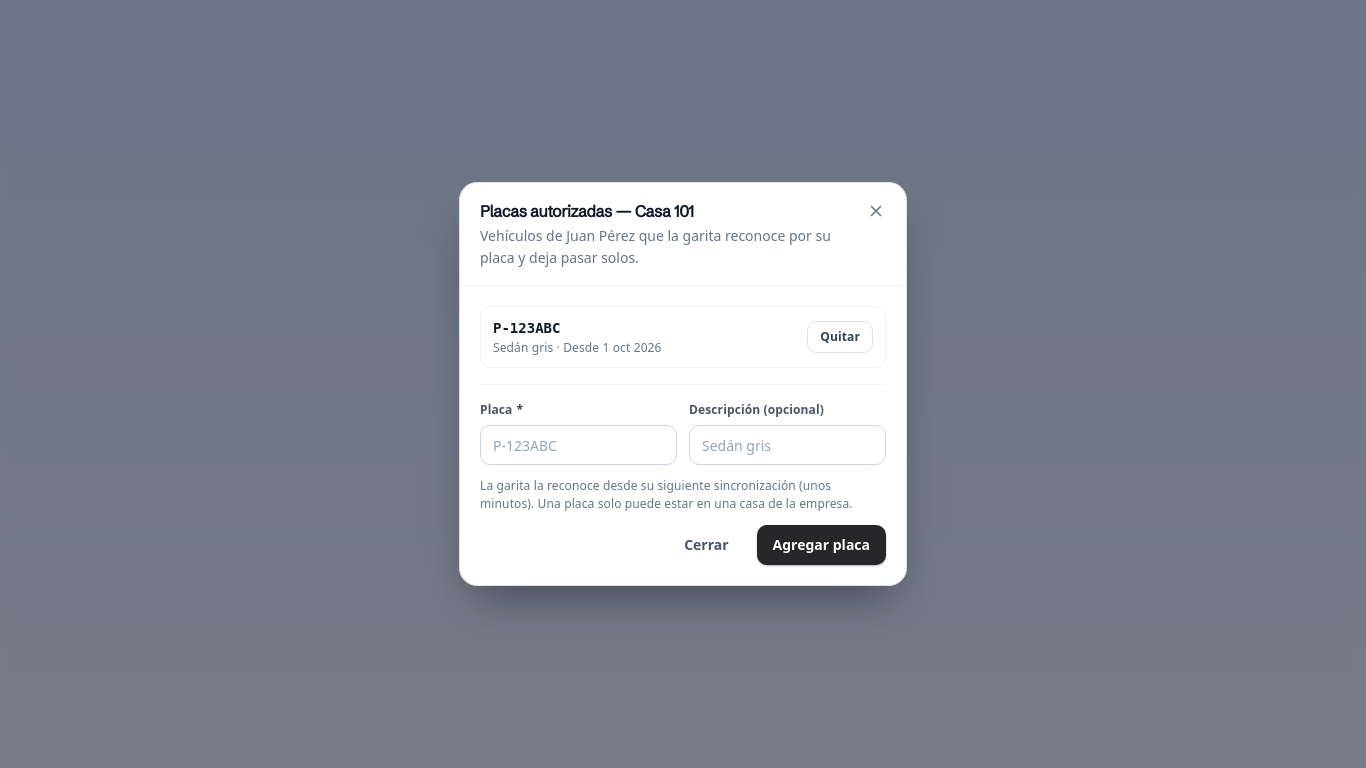
Test: PlacasResidente › baja: pide confirmación en la misma fila; cancelar no quita nada; confirmar la quita
The width and height of the screenshot is (1366, 768).
Click the button with aria-label "Quitar la placa P-123ABC" at (840, 337), box [807, 321, 873, 353]
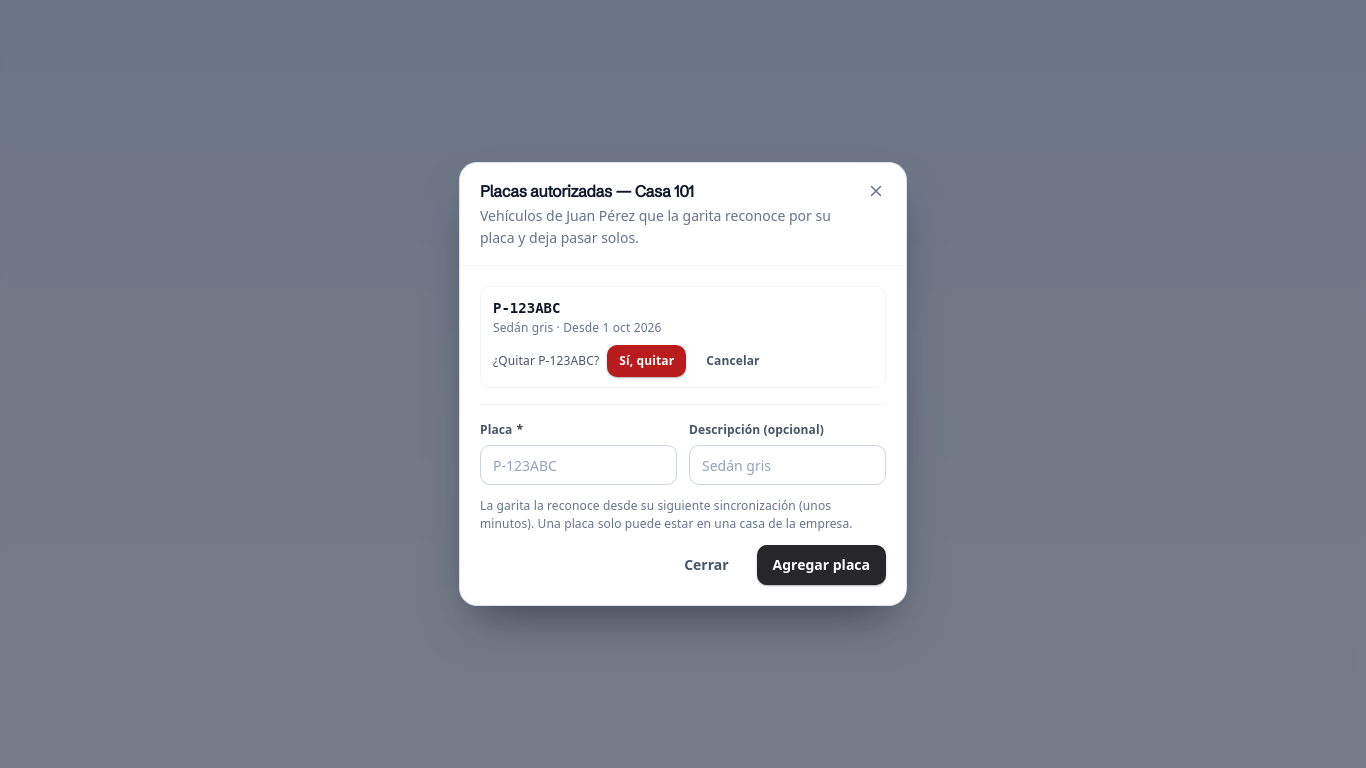
Click the button "Cancelar" at (733, 361), box [694, 345, 772, 377]
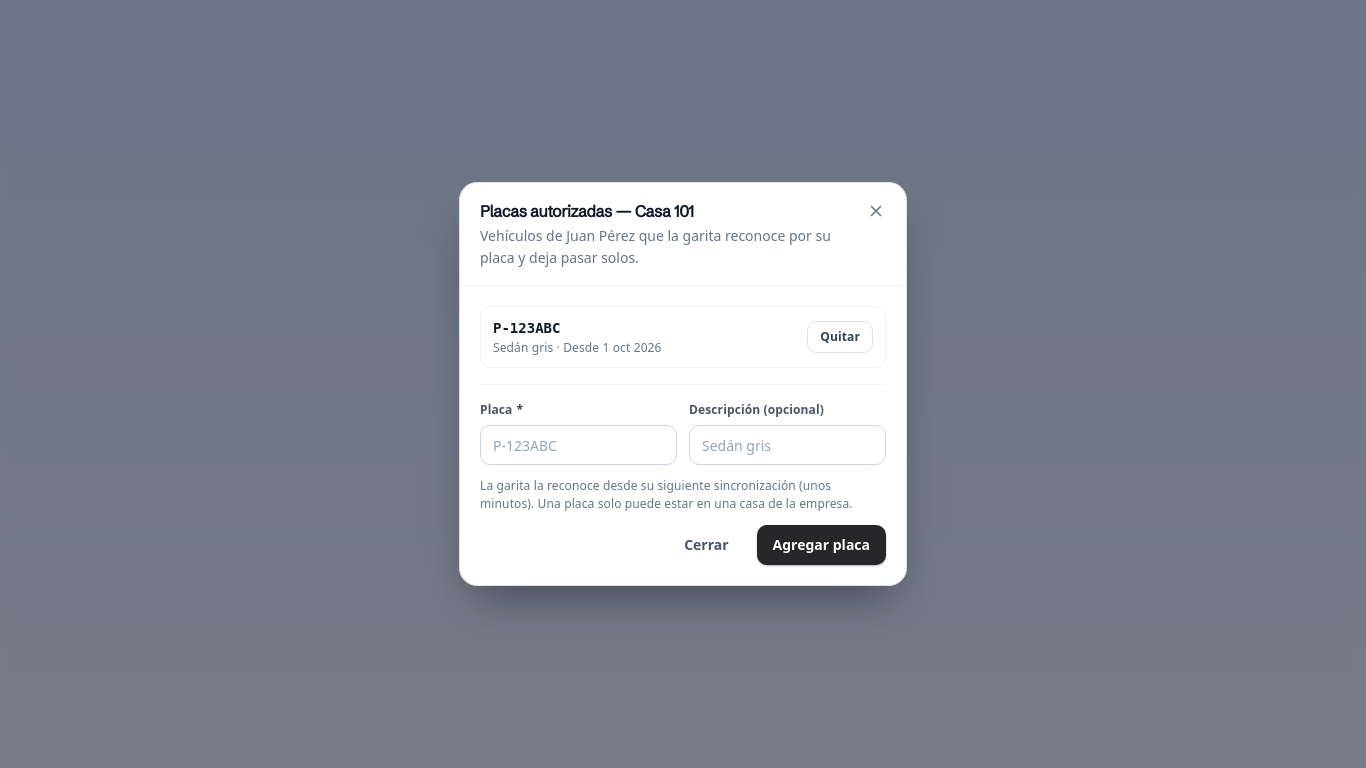
Click the button with aria-label "Quitar la placa P-123ABC" at (840, 337), box [807, 321, 873, 353]
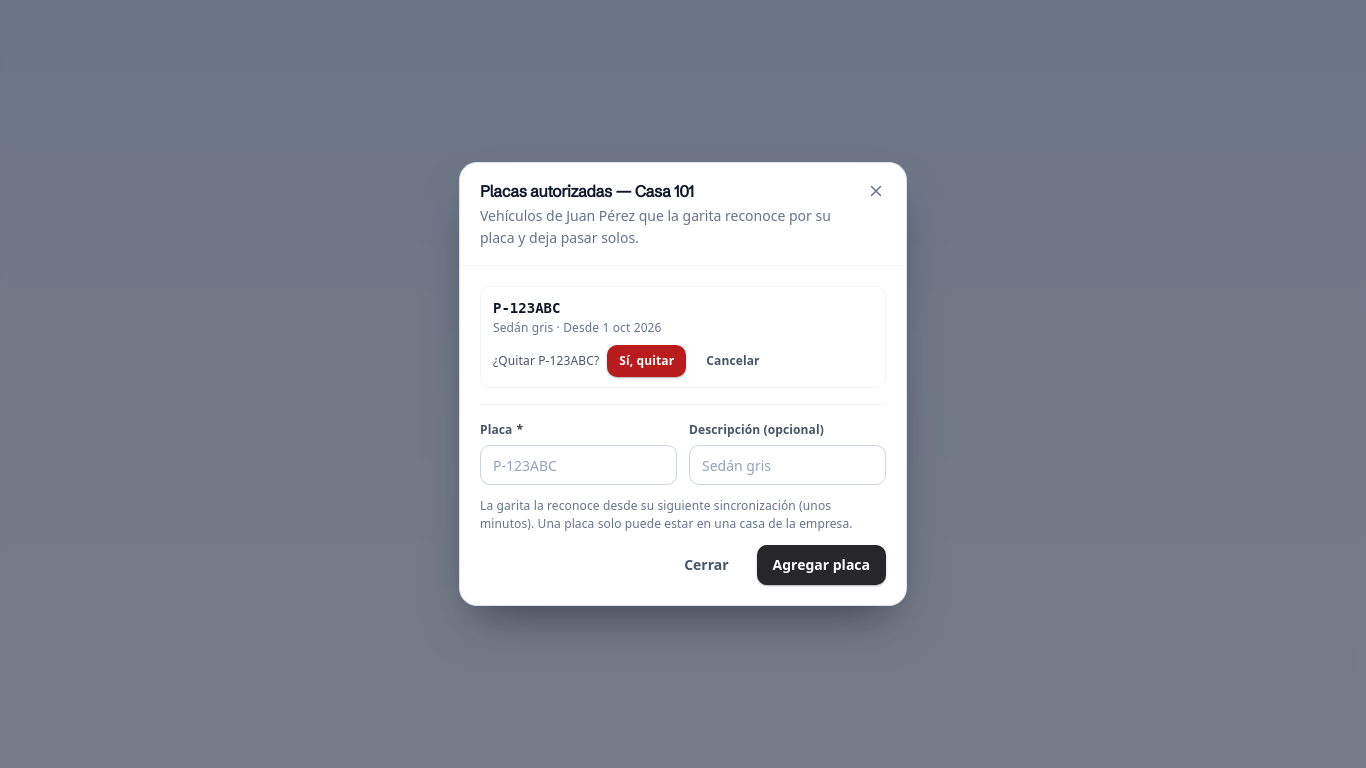
Click the button "Sí, quitar" at (647, 361), box [607, 345, 686, 377]
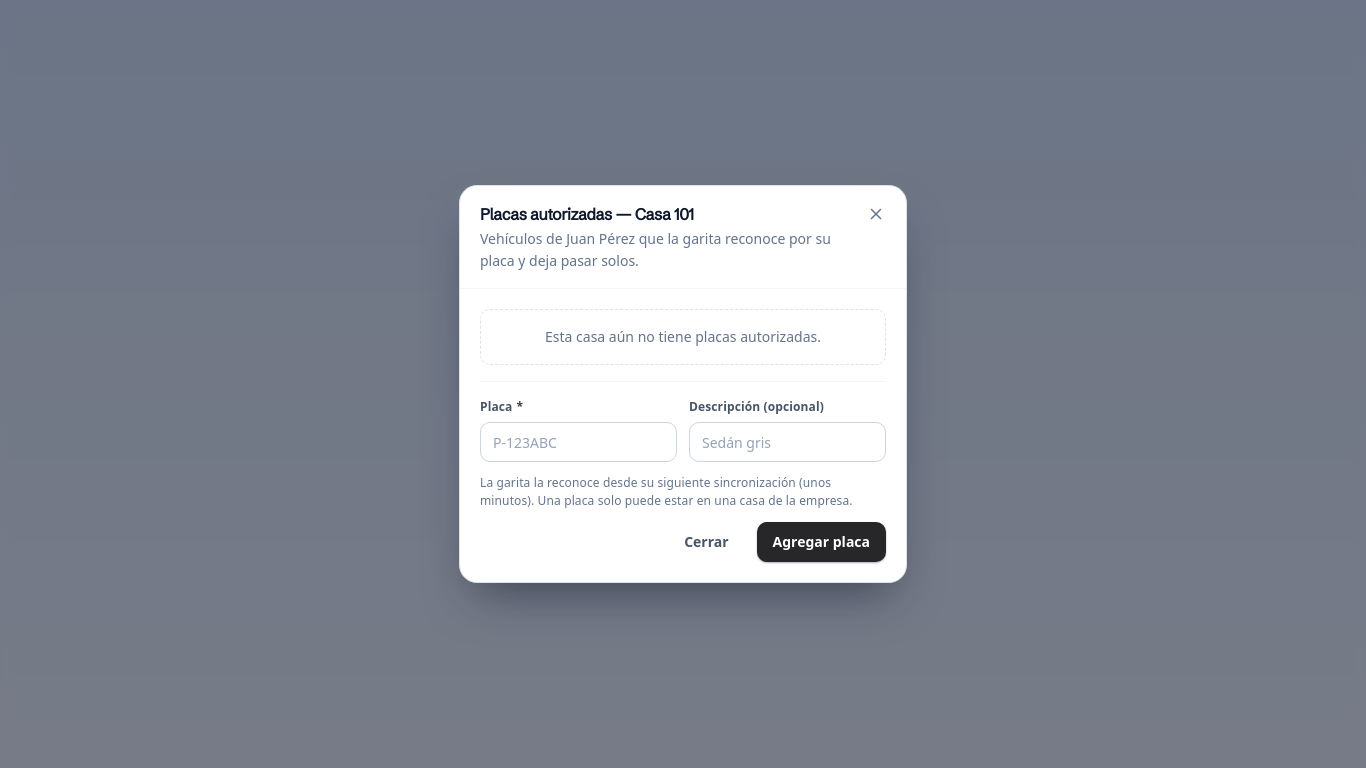
Expected: the text "Esta casa aún no tiene placas autorizadas." is shown, [480, 309, 886, 365]
